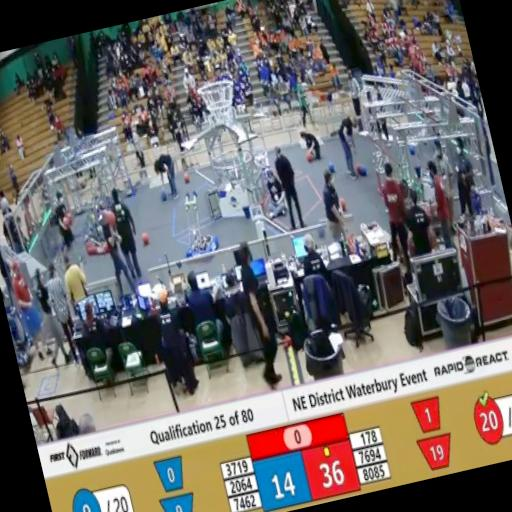robot: (163, 182, 225, 270), (68, 176, 124, 262), (397, 148, 451, 234), (236, 130, 284, 192), (170, 208, 172, 209)
